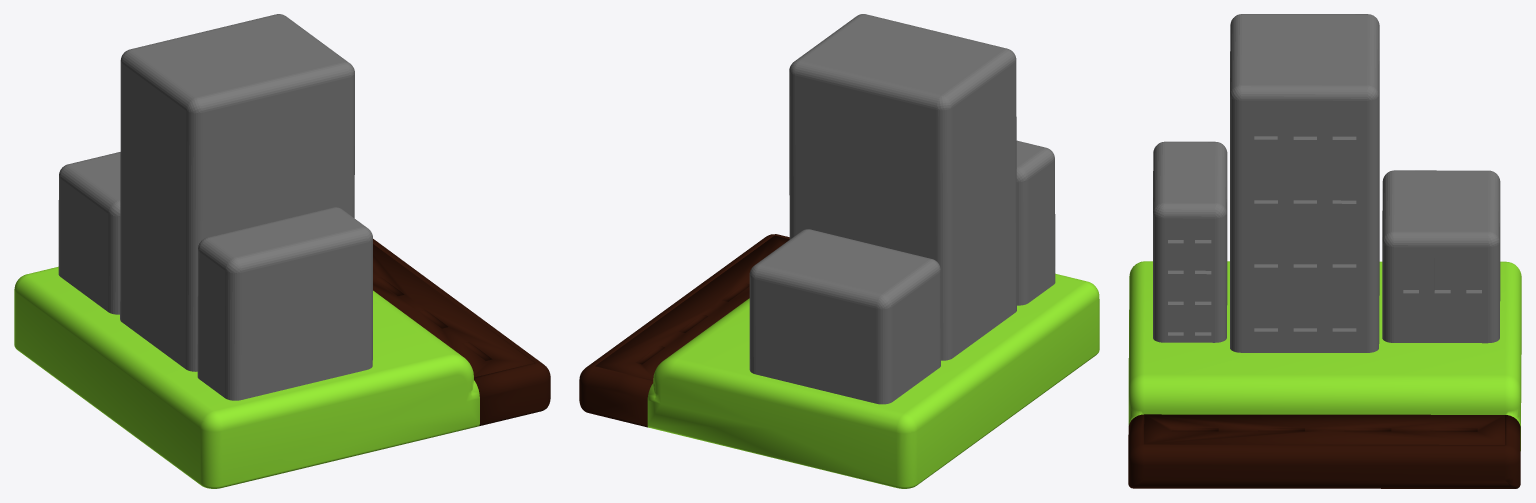
File: play.glb
3 renders of one model, left to right at view 1: azimuth 30°, elevation 25°; view 2: azimuth 150°, elevation 25°; view 3: azimuth 270°, elevation 25°, orthographic. The views are drawn at different scales.
Parts seen in each view (by area): view 1: Body1; view 2: Body1; view 3: Body1.
Boxes of the visible parts, x1,y1,x2,y2 form: Body1: [14, 14, 550, 488]; Body1: [579, 14, 1099, 488]; Body1: [1128, 14, 1521, 488].
Bounding box in the file's own units: 0.0501 × 0.0471 × 0.0501.
